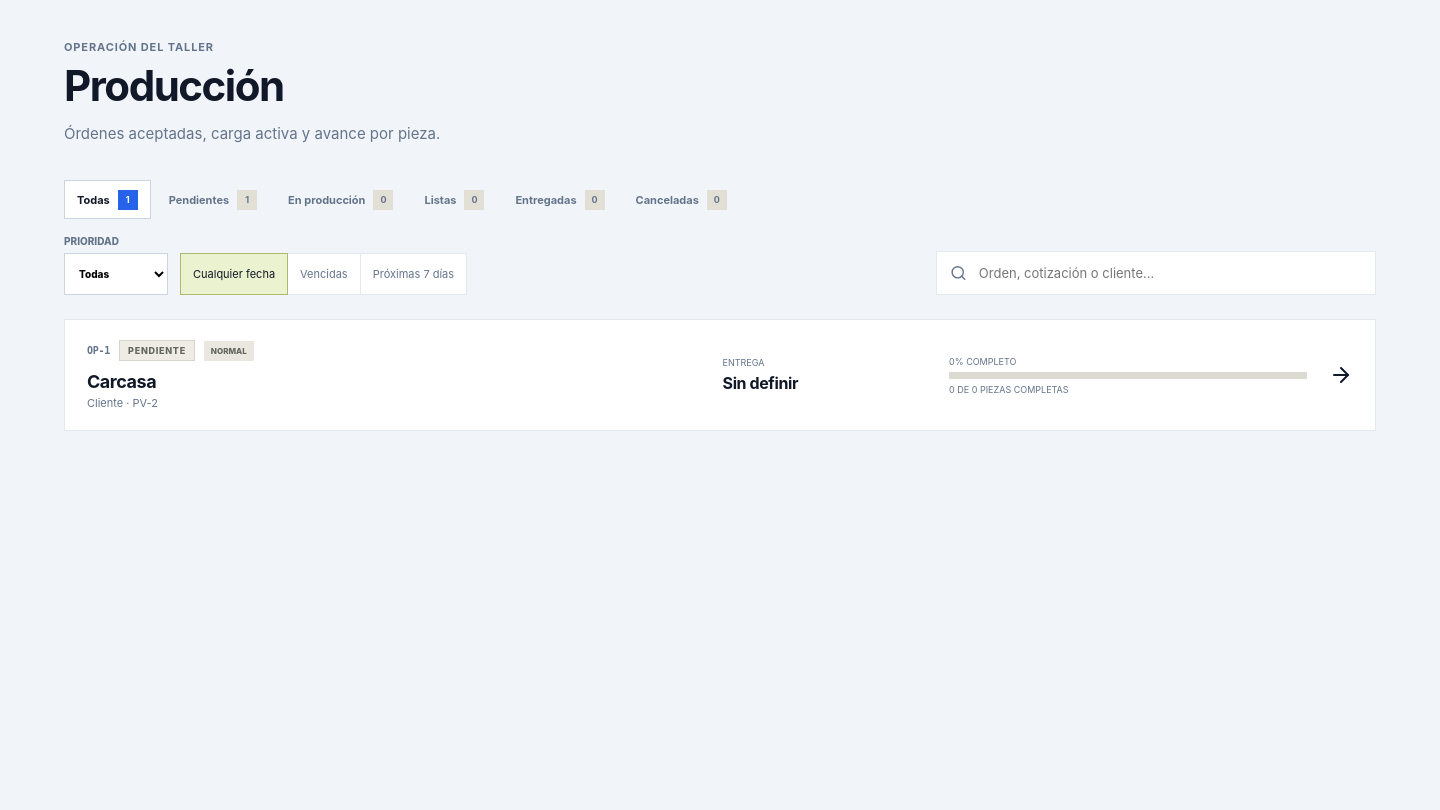
filtros de producción › limpia todos los filtros sin resultados y vuelve a mostrar las órdenes
Expected: the text "OP-1" is shown, left=87, top=345, right=110, bottom=356
Click the button "Pendientes 1".
click(213, 200)  # box left=156, top=180, right=270, bottom=219
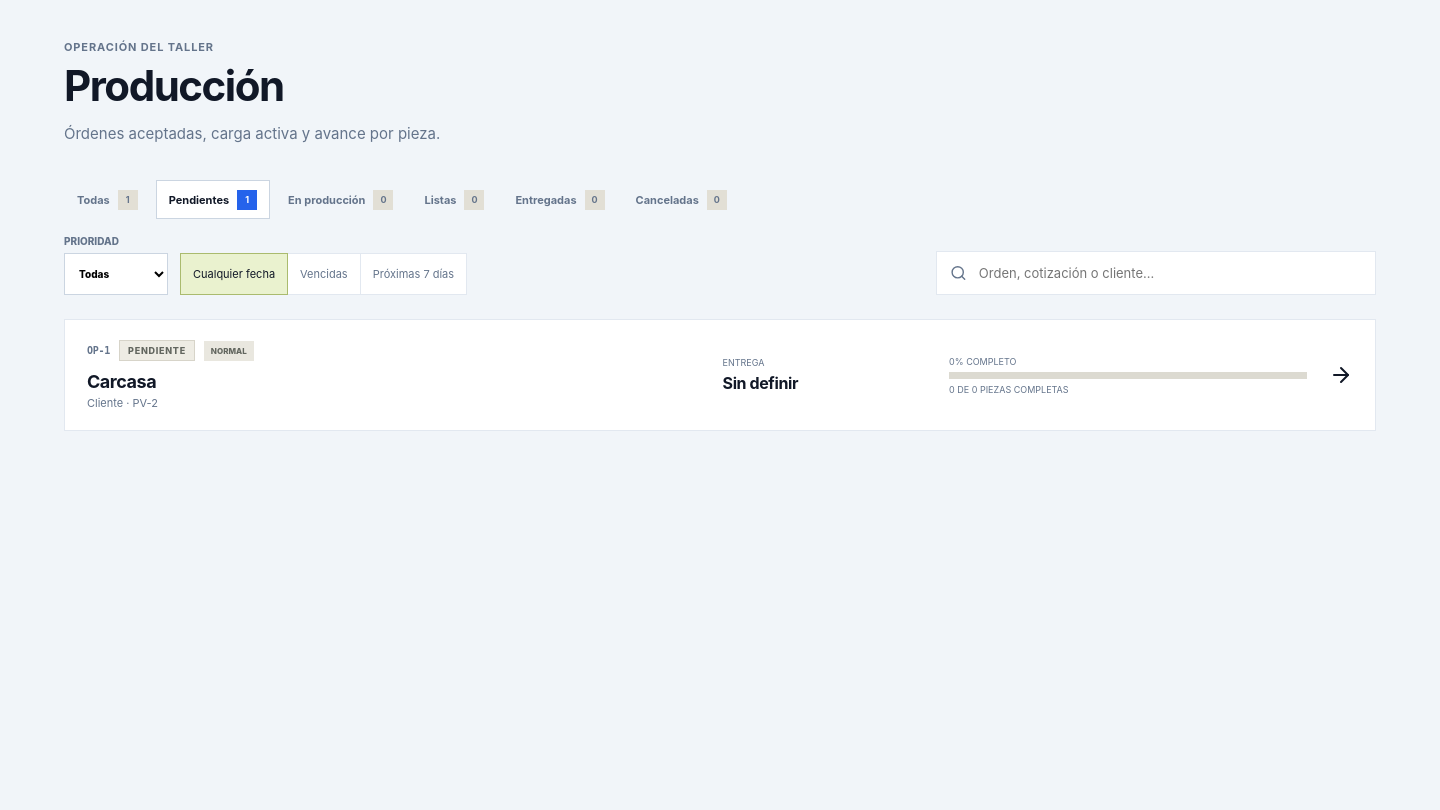
Expected: the button "Limpiar filtros" is not shown
Click the button "Canceladas 0".
click(681, 200)  # box left=623, top=180, right=740, bottom=219
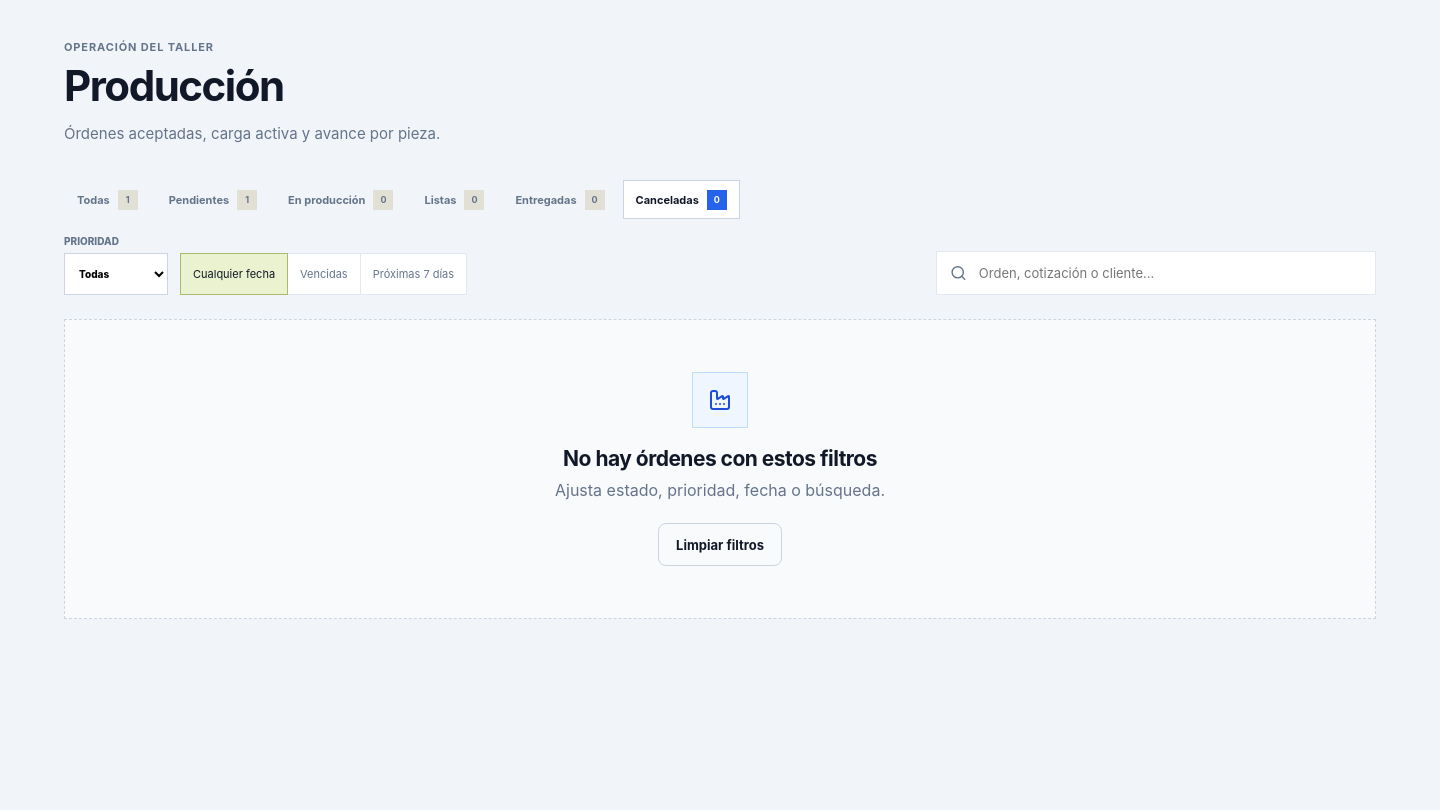
Select "Urgente" in the dropdown labelled "Prioridad" at [116, 274], box left=64, top=253, right=168, bottom=295
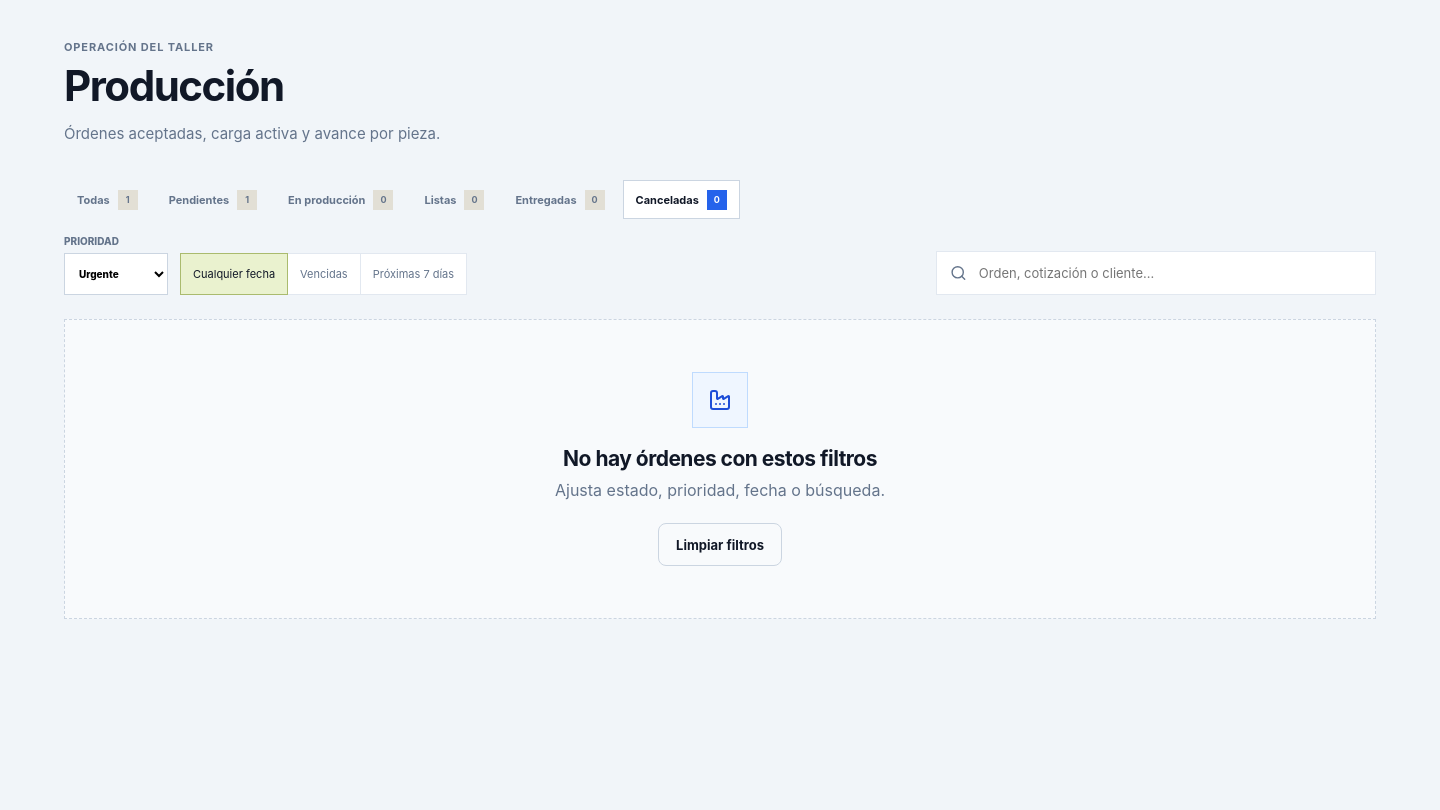
Click the button "Vencidas".
click(324, 274)  # box left=288, top=253, right=361, bottom=295
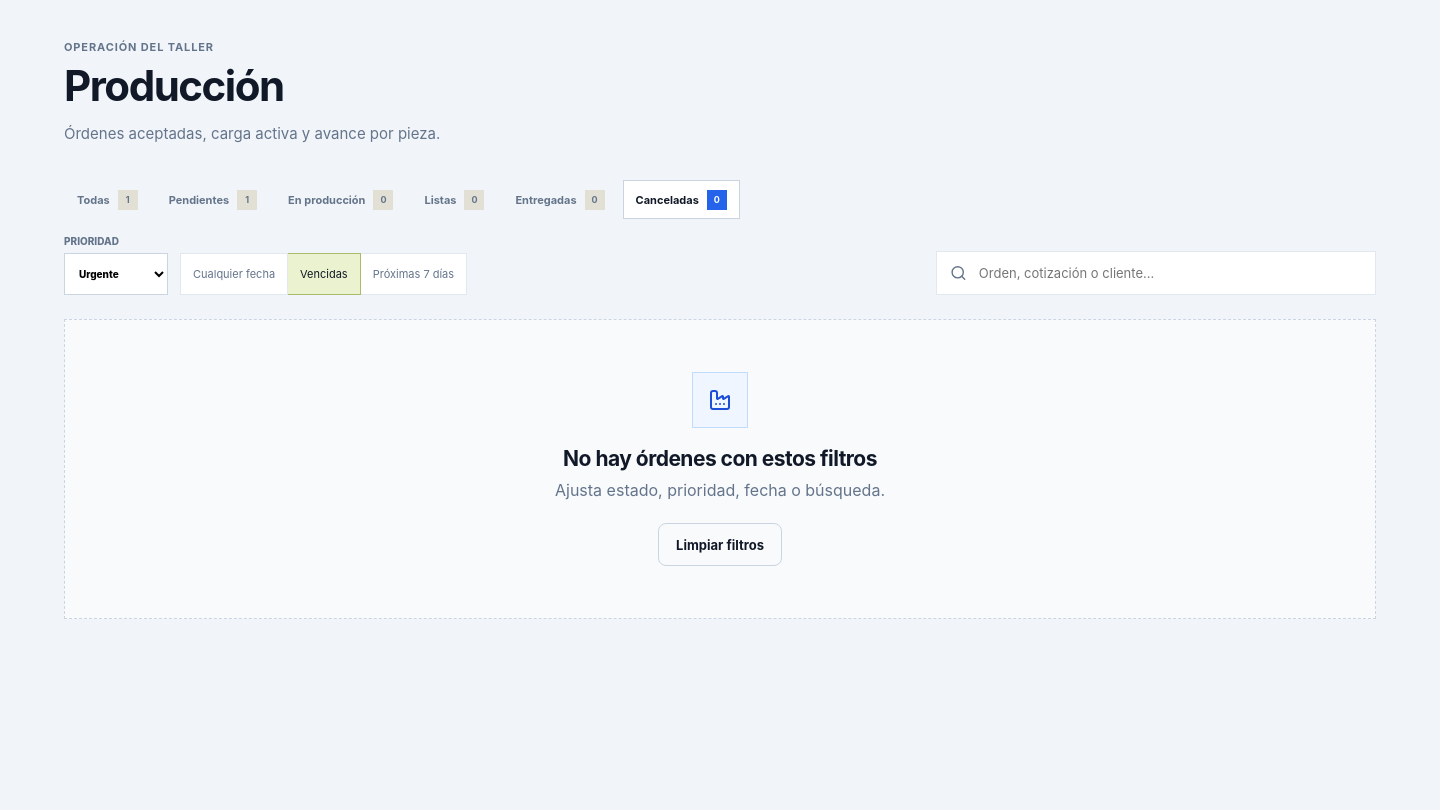
Type "sin coincidencias" into the field named "Buscar orden".
click(1169, 273); type("sin coincidencias")  # box left=977, top=264, right=1362, bottom=282
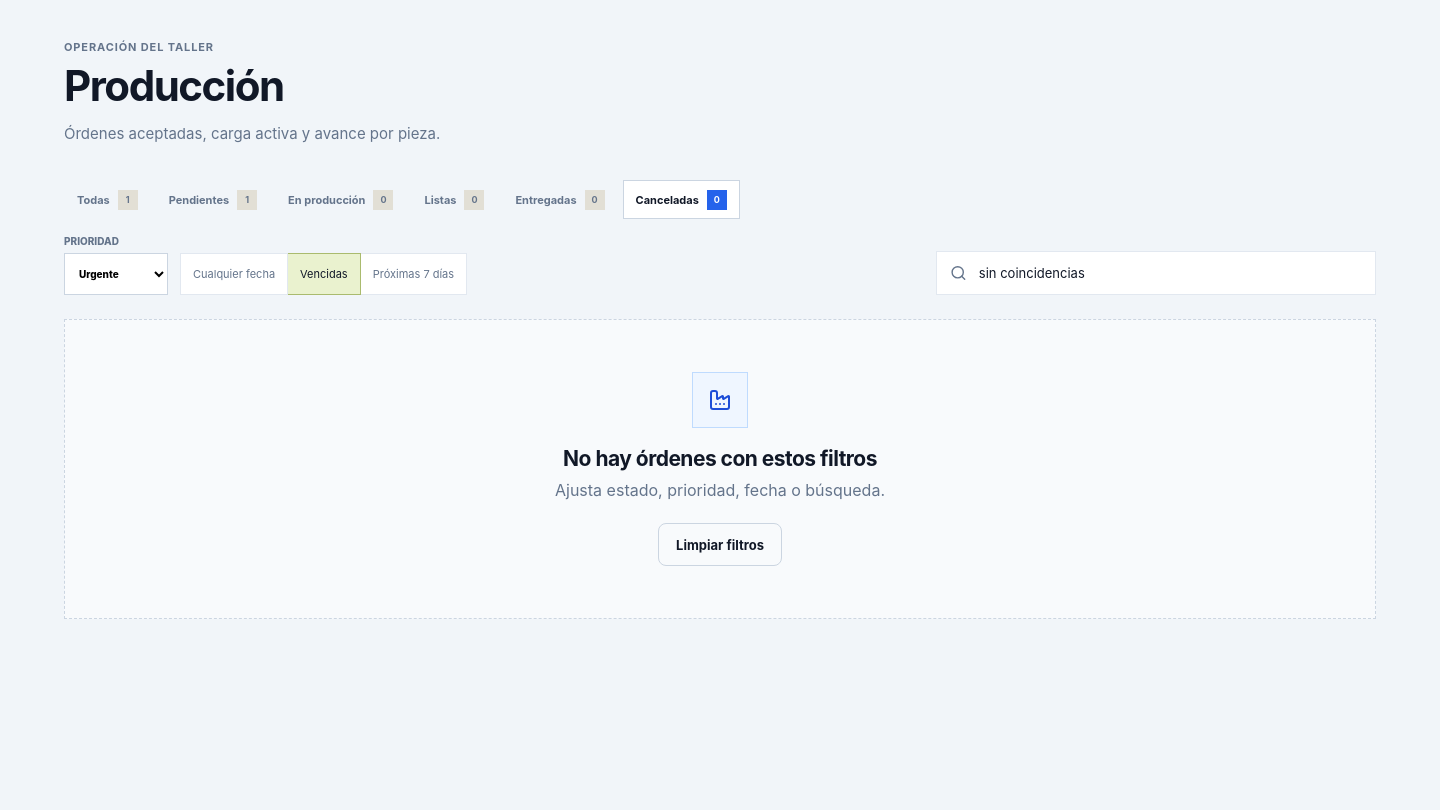
Click the button "Limpiar filtros".
click(720, 545)  # box left=658, top=523, right=782, bottom=566
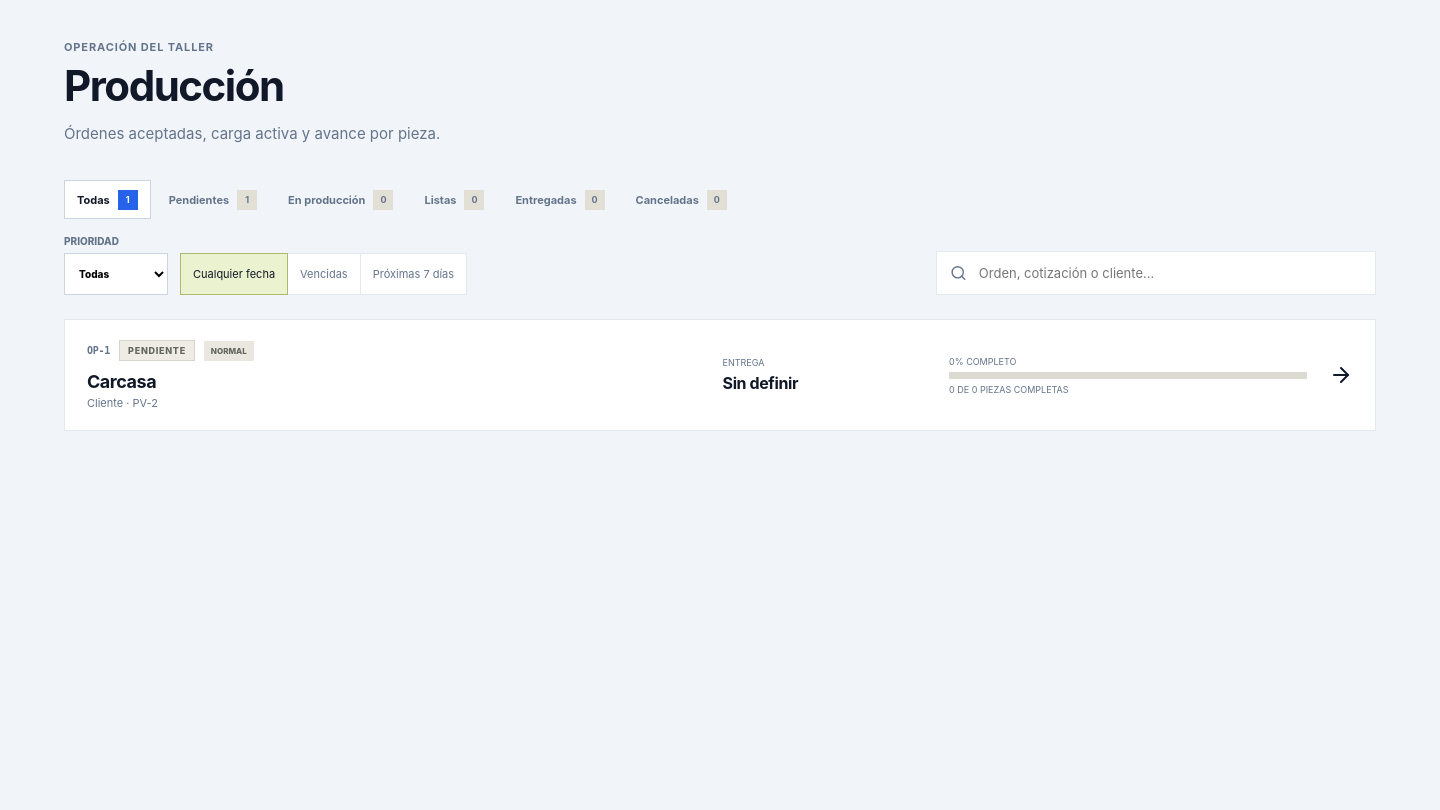
Now the text "OP-1" is shown, box left=87, top=345, right=110, bottom=356
Now the field named "Buscar orden" is empty, box left=977, top=264, right=1362, bottom=282
Now the button "Limpiar filtros" is gone
